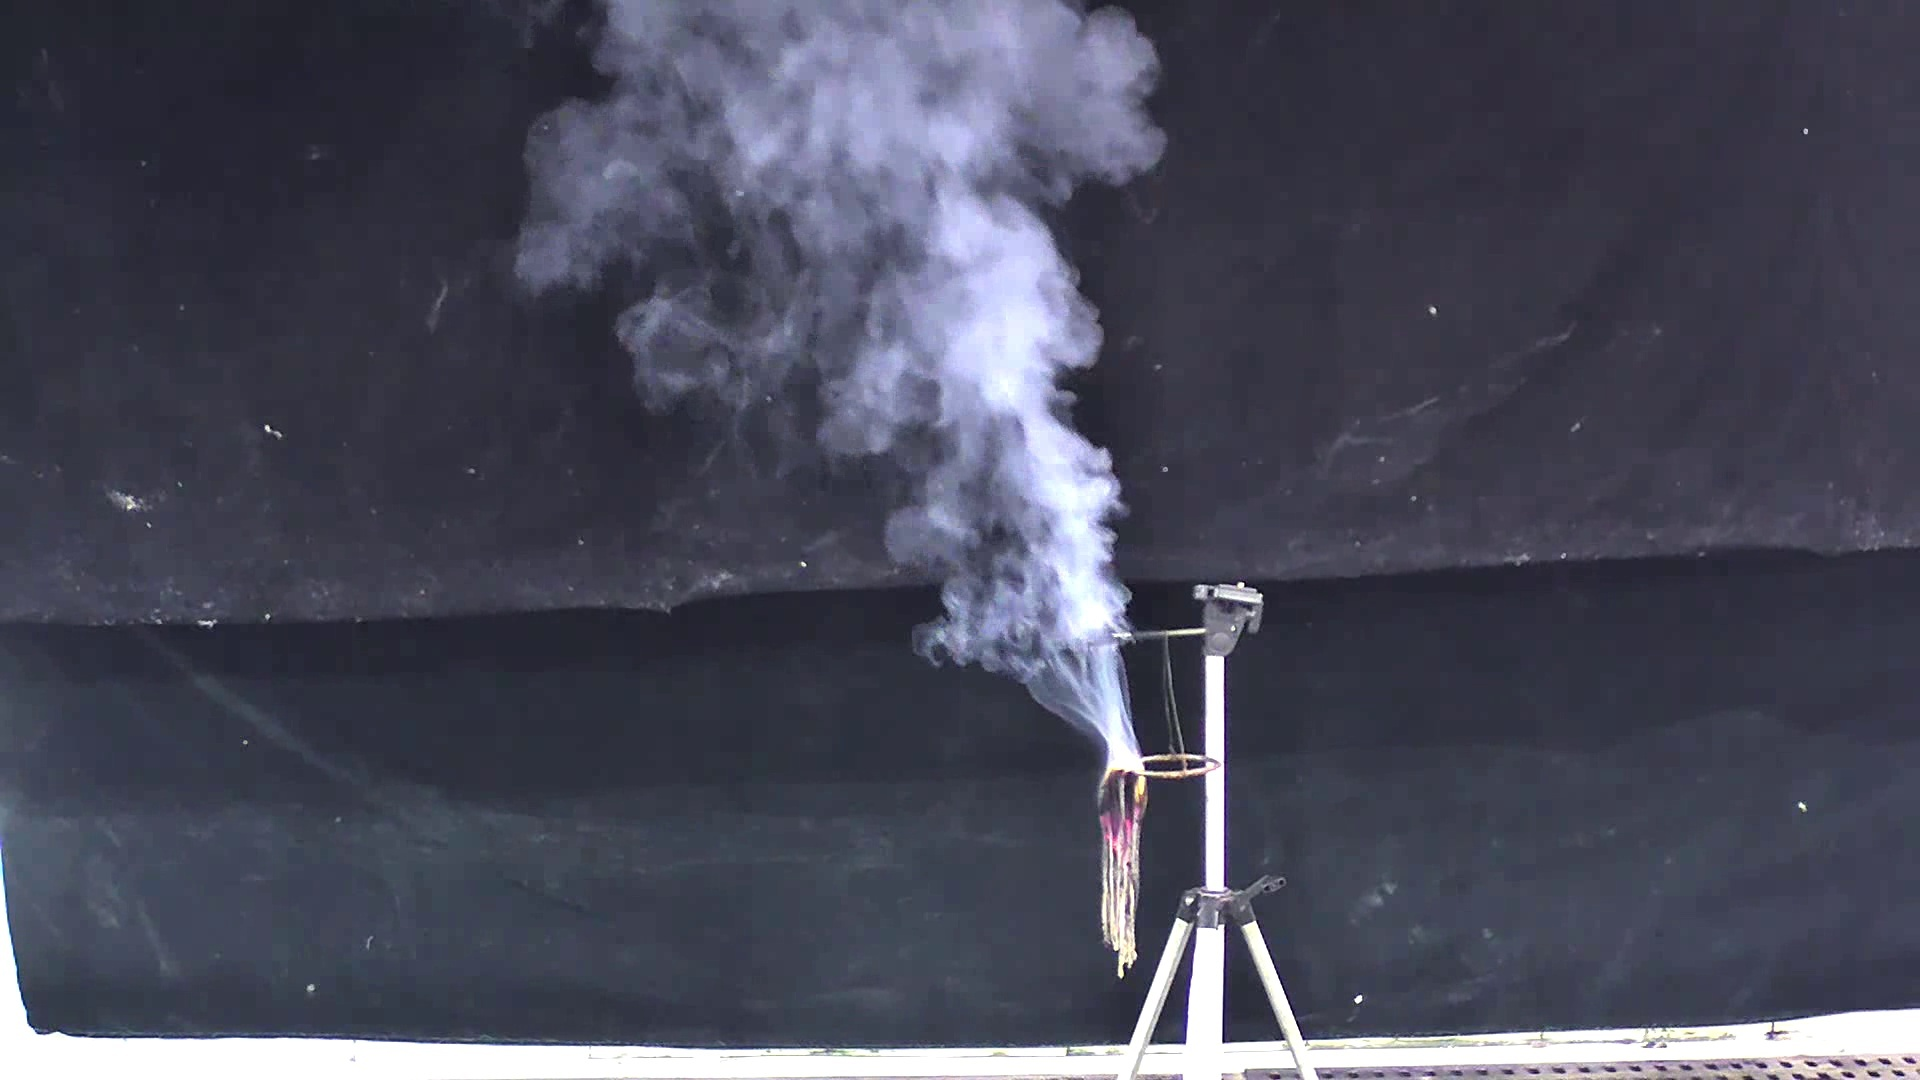smoke: (531, 7, 1153, 720)
